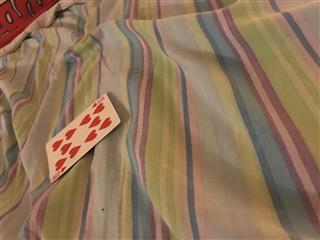TenOfHearts: (44, 91, 120, 182)
